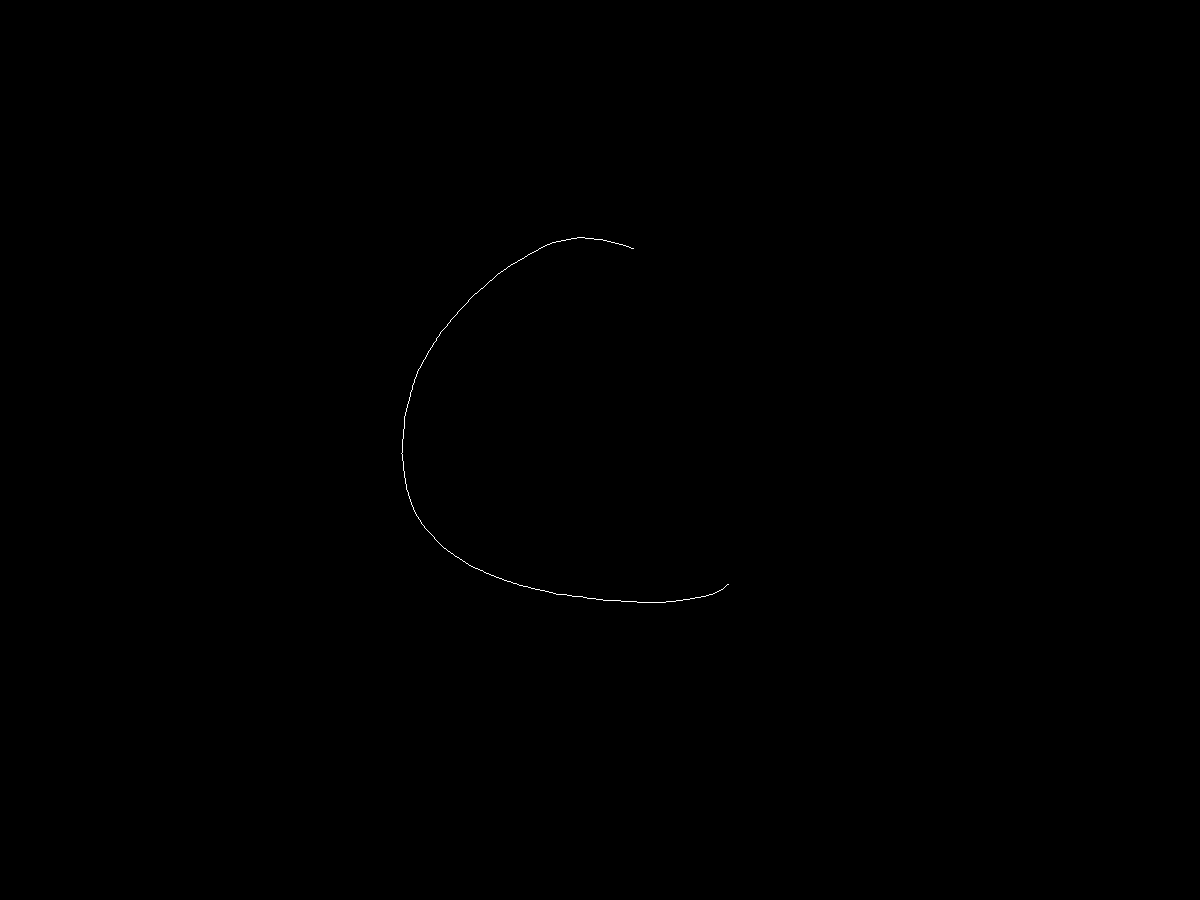dian1: (623, 239, 638, 253)
dian2: (718, 574, 743, 601)
